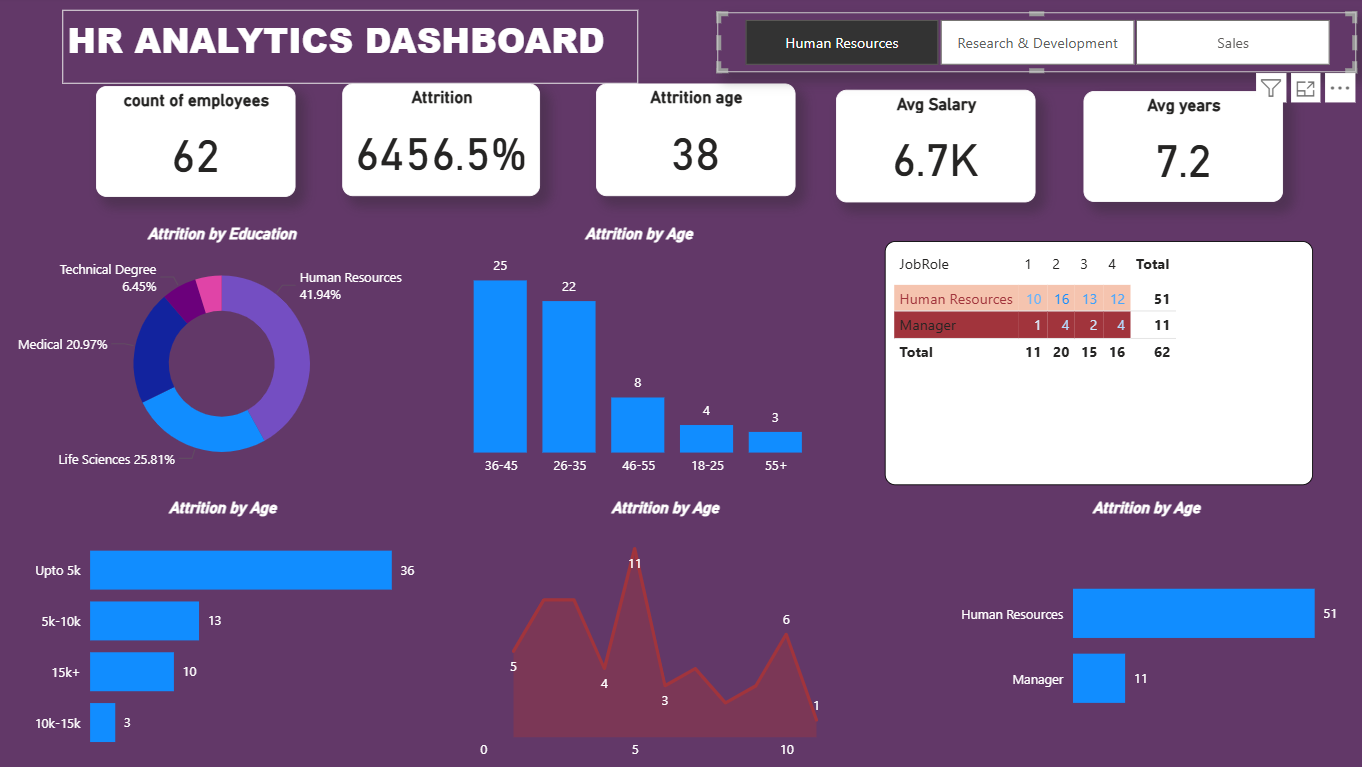

What the dashboard file says about the page in this screenshot:
{"tool":"powerbi","page":{"name":"Page 1","canvas":[1280,720],"ordinal":0},"visuals":[{"type":"card","title":"count of employees","fields":{"Values":["CountNonNull(HR_Analytics.EmpID)"]},"box":[93.3,83.2,185.4,103.4],"z":0},{"type":"card","title":"Attrition","fields":{"Values":["HR_Analytics.AttritionCountt"]},"box":[321.6,82,184.1,104.7],"z":1000},{"type":"card","title":"Attrition age","fields":{"Values":["Avg(HR_Analytics.Age)"]},"box":[558.7,82,185.4,104.7],"z":2000},{"type":"card","title":"Avg Salary","fields":{"Values":["Avg(HR_Analytics.MonthlyIncome)"]},"box":[781.9,87,185.4,104.7],"z":3000},{"type":"card","title":"Avg years","fields":{"Values":["Avg(HR_Analytics.YearsAtCompany)"]},"box":[1011.4,88.3,185.4,103.4],"z":4000},{"type":"donutChart","title":"Attrition by Education","fields":{"Category":["HR_Analytics.EducationField"],"Y":["CountNonNull(HR_Analytics.AttritionCount)"]},"box":[12.6,213.1,394.7,242.1],"z":5000},{"type":"columnChart","title":"Attrition by Age","fields":{"Category":["HR_Analytics.AgeGroup"],"Y":["CountNonNull(HR_Analytics.AttritionCount)"]},"box":[413.6,213.1,368.2,242.1],"z":6000},{"type":"pivotTable","fields":{"Rows":["HR_Analytics.JobRole"],"Columns":["HR_Analytics.JobSatisfaction"],"Values":["Sum(HR_Analytics.EmployeeCount)"]},"box":[827.3,228.3,398.5,227],"z":7000},{"type":"barChart","title":"Attrition by Age","fields":{"Category":["HR_Analytics.SalarySlab"],"Y":["CountNonNull(HR_Analytics.AttritionCount)"]},"box":[26.5,467.9,368.2,252.2],"z":8000},{"type":"barChart","title":"Attrition by Age","fields":{"Category":["HR_Analytics.JobRole"],"Y":["CountNonNull(HR_Analytics.AttritionCount)"]},"box":[886.5,467.9,368.2,252.2],"z":9000},{"type":"areaChart","title":"Attrition by Age","fields":{"Category":["HR_Analytics.YearsAtCompany"],"Y":["CountNonNull(HR_Analytics.AttritionCount)"]},"box":[438.9,467.9,368.2,252.2],"z":10000},{"type":"slicer","fields":{"Values":["HR_Analytics.Department"]},"box":[670.9,15.1,594,55.5],"z":10001},{"type":"textbox","box":[61.8,12.6,536,69.4],"z":10002}]}

Visuals, with their boxes in screenshot pixels (x1, y1, x2, y2), scaled from the page's 1280x720 canvas onto the 1362x767 screenshot:
"count of employees" card: Rect(99, 89, 297, 199)
"Attrition" card: Rect(342, 87, 538, 199)
"Attrition age" card: Rect(594, 87, 792, 199)
"Avg Salary" card: Rect(832, 93, 1029, 204)
"Avg years" card: Rect(1076, 94, 1273, 204)
"Attrition by Education" donutChart: Rect(13, 227, 433, 485)
"Attrition by Age" columnChart: Rect(440, 227, 832, 485)
pivotTable - HR_Analytics.JobRole x HR_Analytics.JobSatisfaction: Rect(880, 243, 1304, 485)
"Attrition by Age" barChart: Rect(28, 498, 420, 766)
"Attrition by Age" barChart: Rect(943, 498, 1335, 766)
"Attrition by Age" areaChart: Rect(467, 498, 859, 766)
slicer - HR_Analytics.Department: Rect(714, 16, 1346, 75)
textbox: Rect(66, 13, 636, 87)
